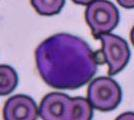M: (35, 32, 97, 88)
